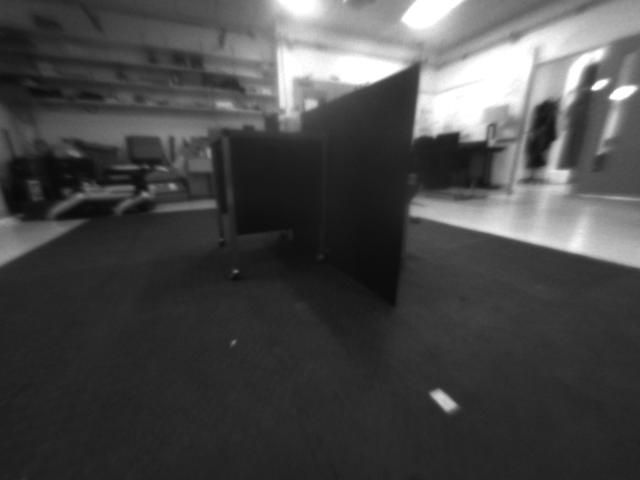dogtoy: (409, 209, 427, 230)
